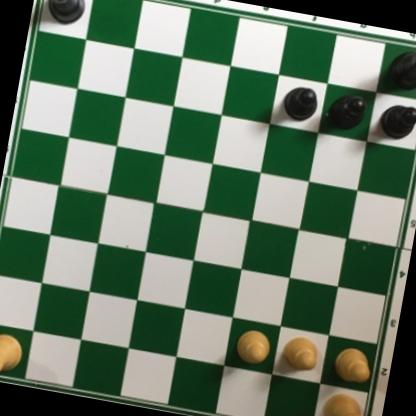black-pawn: (325, 89, 369, 136), (279, 82, 322, 126), (375, 99, 416, 143)
black-rook: (386, 35, 416, 96), (37, 0, 92, 27)
white-pawn: (280, 335, 322, 375), (331, 346, 374, 385), (234, 327, 273, 368)
white-rook: (0, 327, 28, 385), (318, 390, 375, 416)
